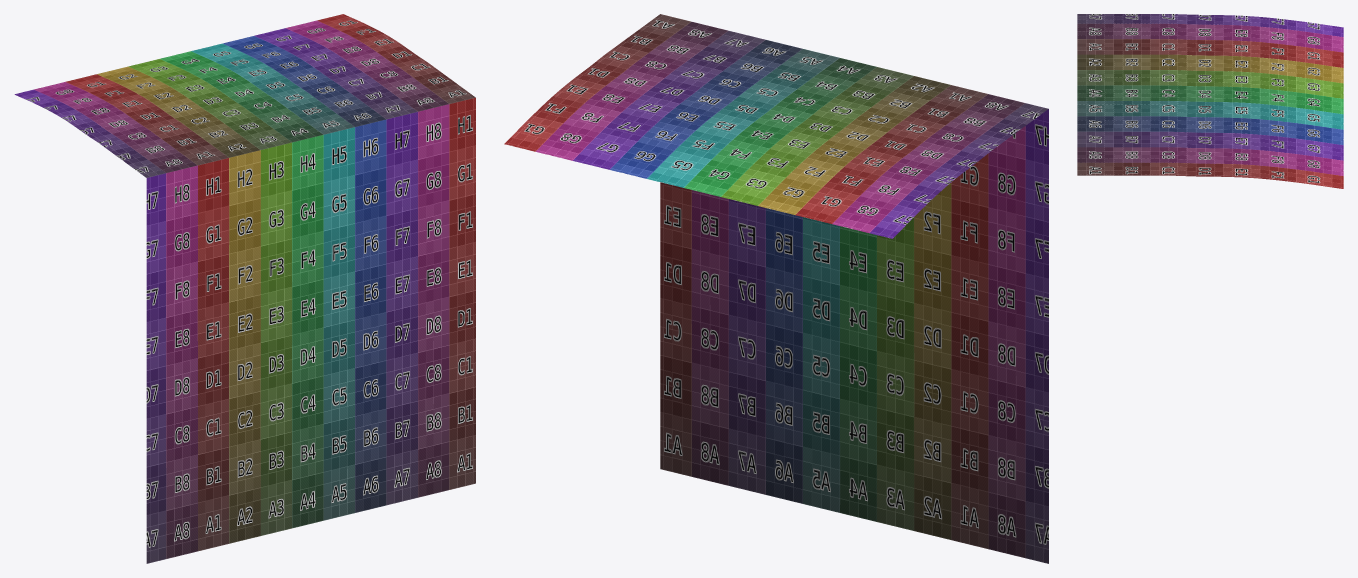
File: ocean-impostor_fix_3.glb
3 views of the same model, side by side, from view 1: azimuth 30°, elevation 25°; view 2: azimuth 150°, elevation 25°; view 3: azimuth 270°, elevation 25° (orthographic). The views are drawn at different scales.
Parts seen in each view (by area): view 1: ocean_impostor_improved; view 2: ocean_impostor_improved; view 3: ocean_impostor_improved.
Boxes of the visible parts, x1,y1,x2,y2 form: ocean_impostor_improved: (14,14,475,563); ocean_impostor_improved: (504,14,1048,563); ocean_impostor_improved: (1077,14,1343,188).
Size of the model in its own units: 66.99 by 75 by 46.68.
Materials: 2 (2 with a texture image).
